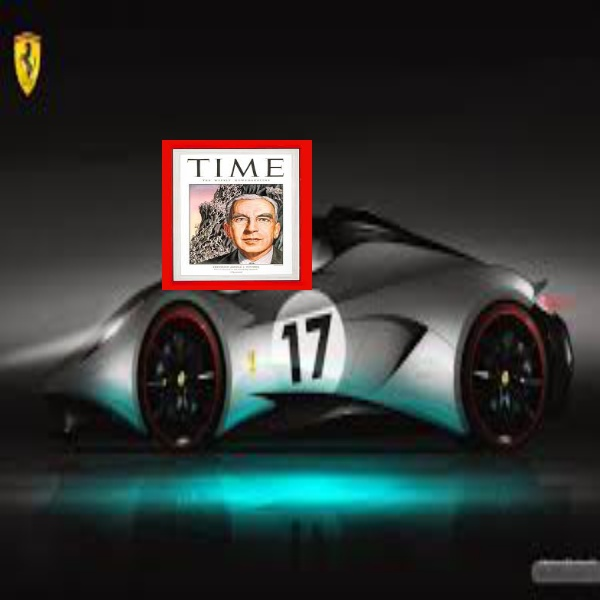time_cover: (156, 121, 318, 297)
